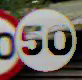Speed limit: (12, 6, 78, 73)
